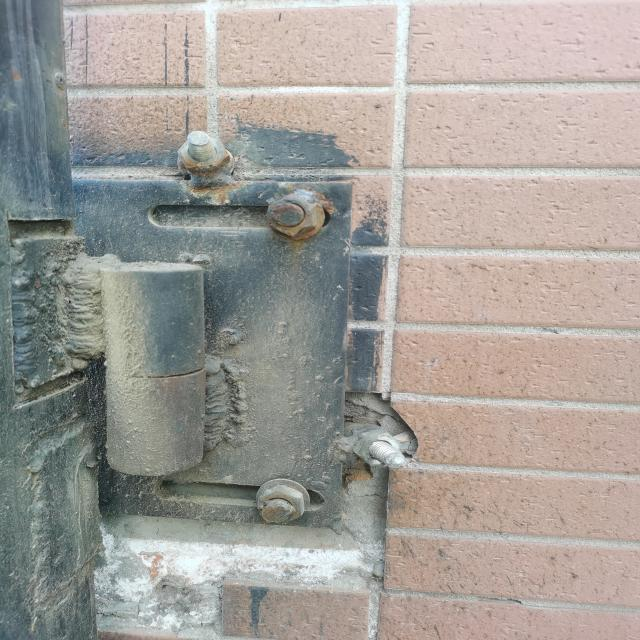bolt nut: (176, 131, 232, 175), (265, 195, 318, 238), (351, 428, 406, 468), (256, 484, 306, 524)
